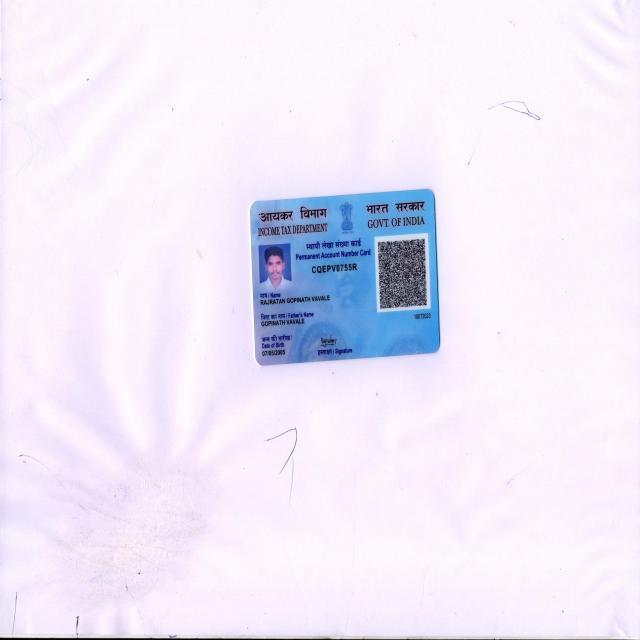pan_card: (252, 186, 440, 367)
